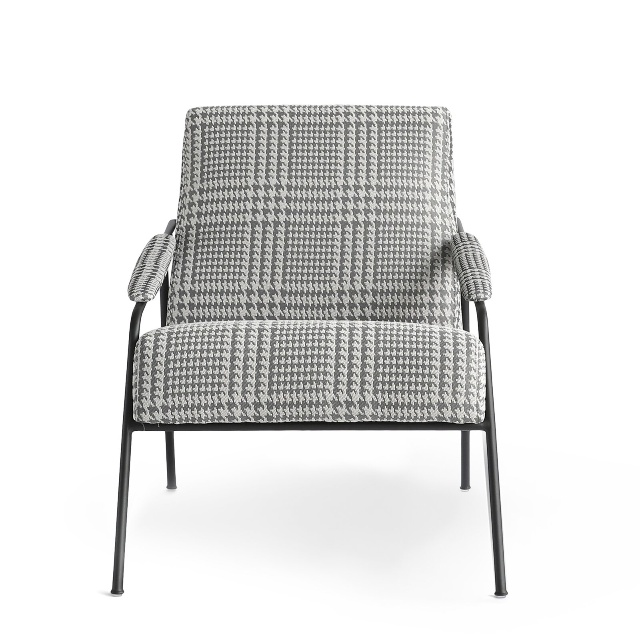obstacle: (112, 106, 506, 596)
